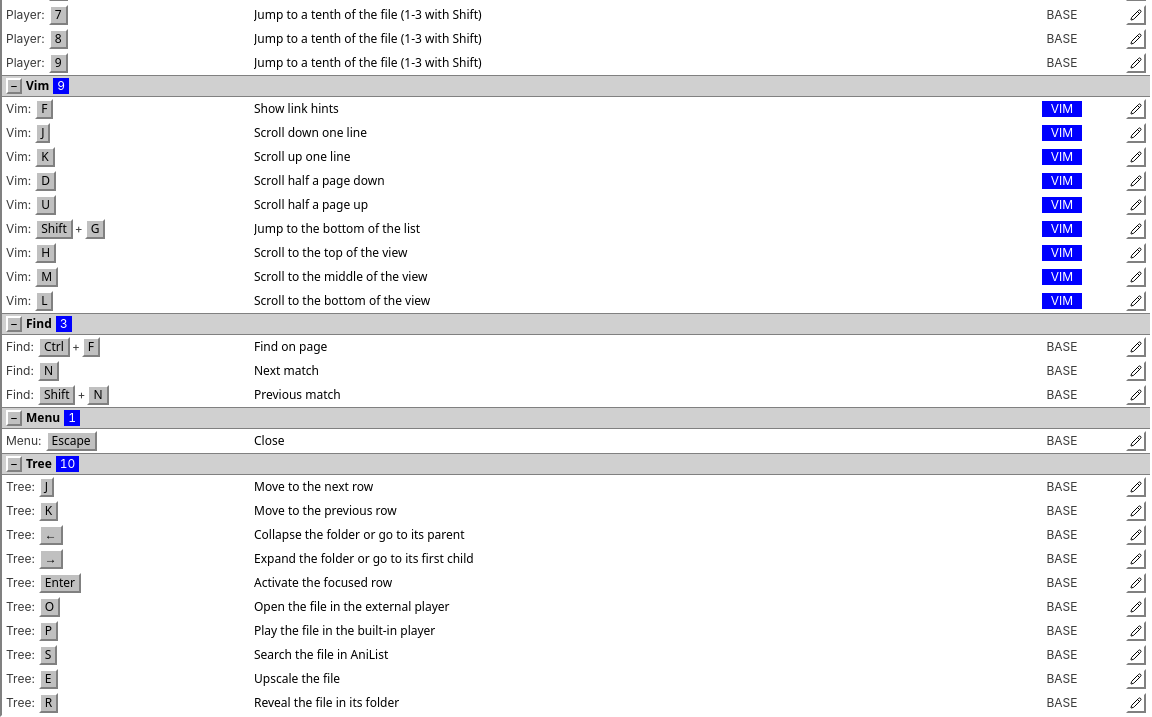
it: SettingsKeybinds editor › previews the conflict while recording
The image size is (1152, 717).
(page scrolled)
Click the button named "edit tree.move.down": coordinates (1136, 487) [1126,477,1146,497]
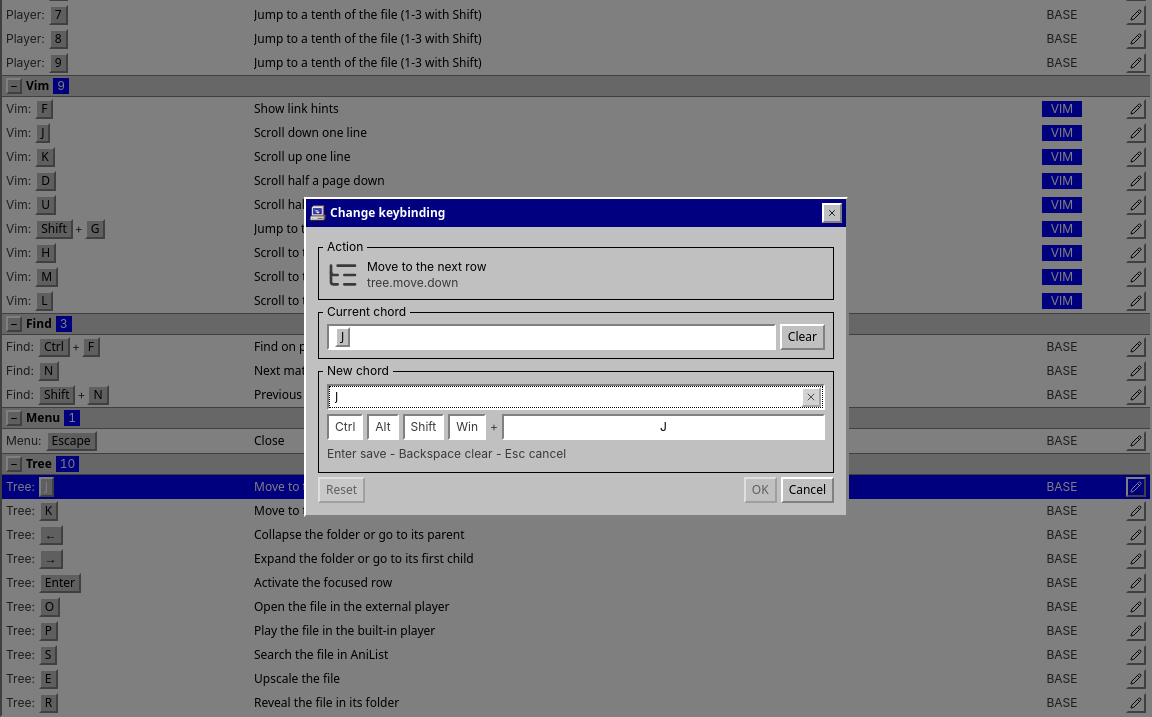
Press k in the field named "Press a chord...", box [327,384,825,410]
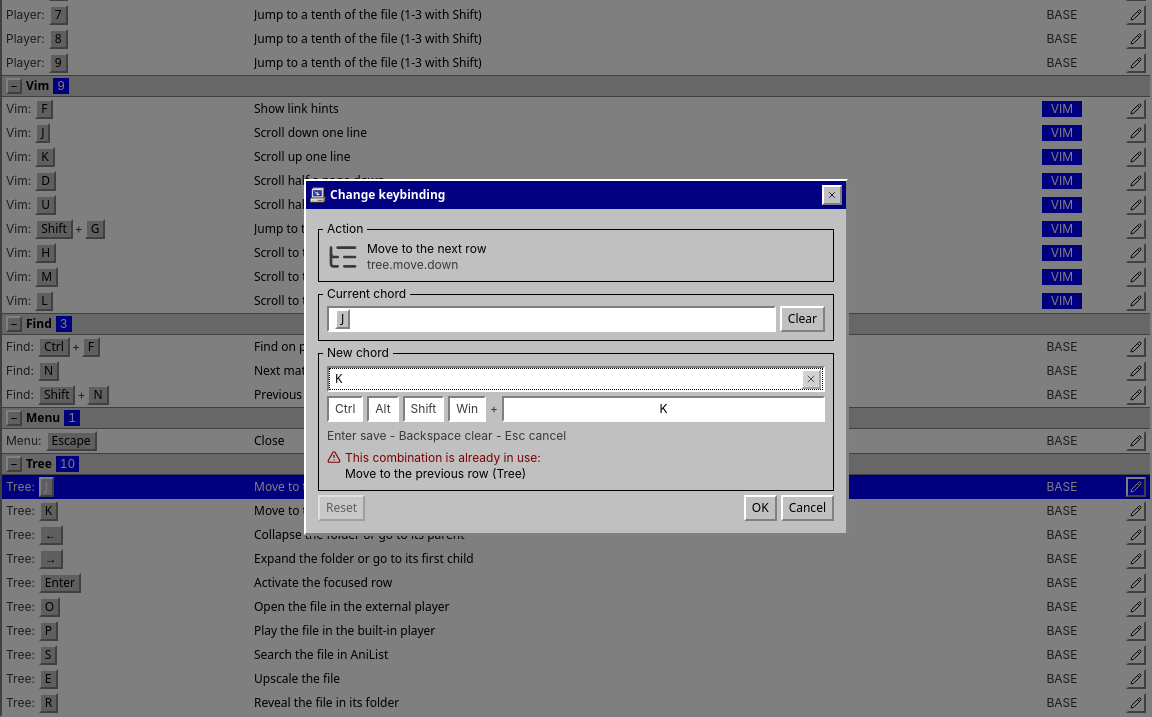
Check: the text "This combination is already in use:" is shown, box [345,450,541,466]
Check: the text "Move to the previous row (Tree)" is shown, box [345,466,541,482]
